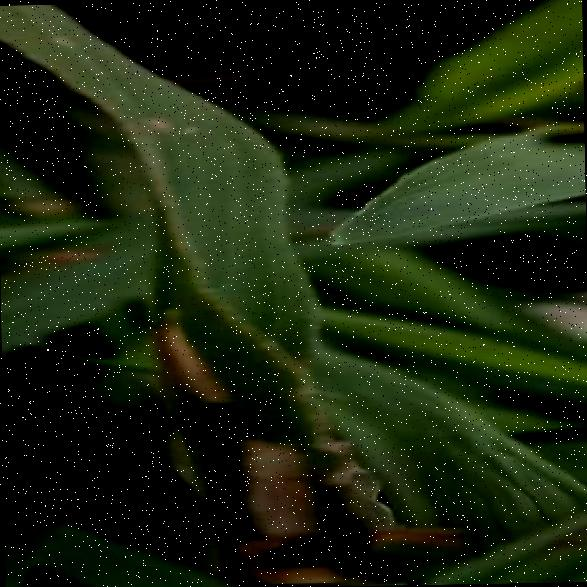Leaf_smut: (213, 406, 331, 552), (158, 300, 240, 402)
